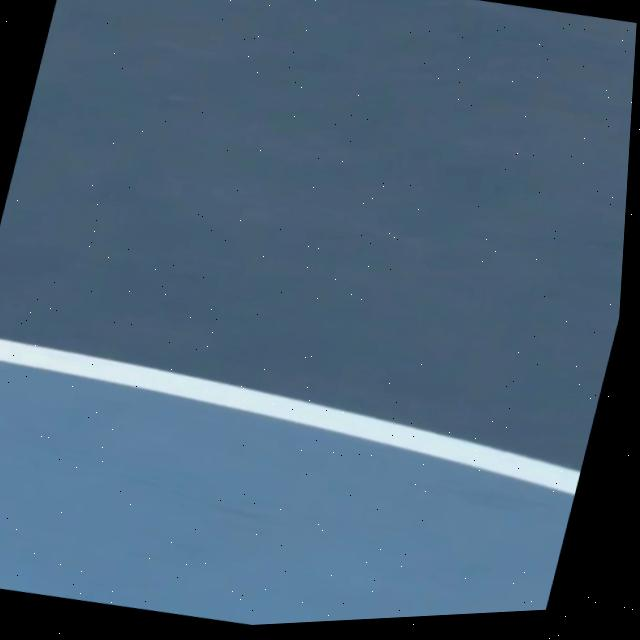left: (0, 341, 580, 496)
